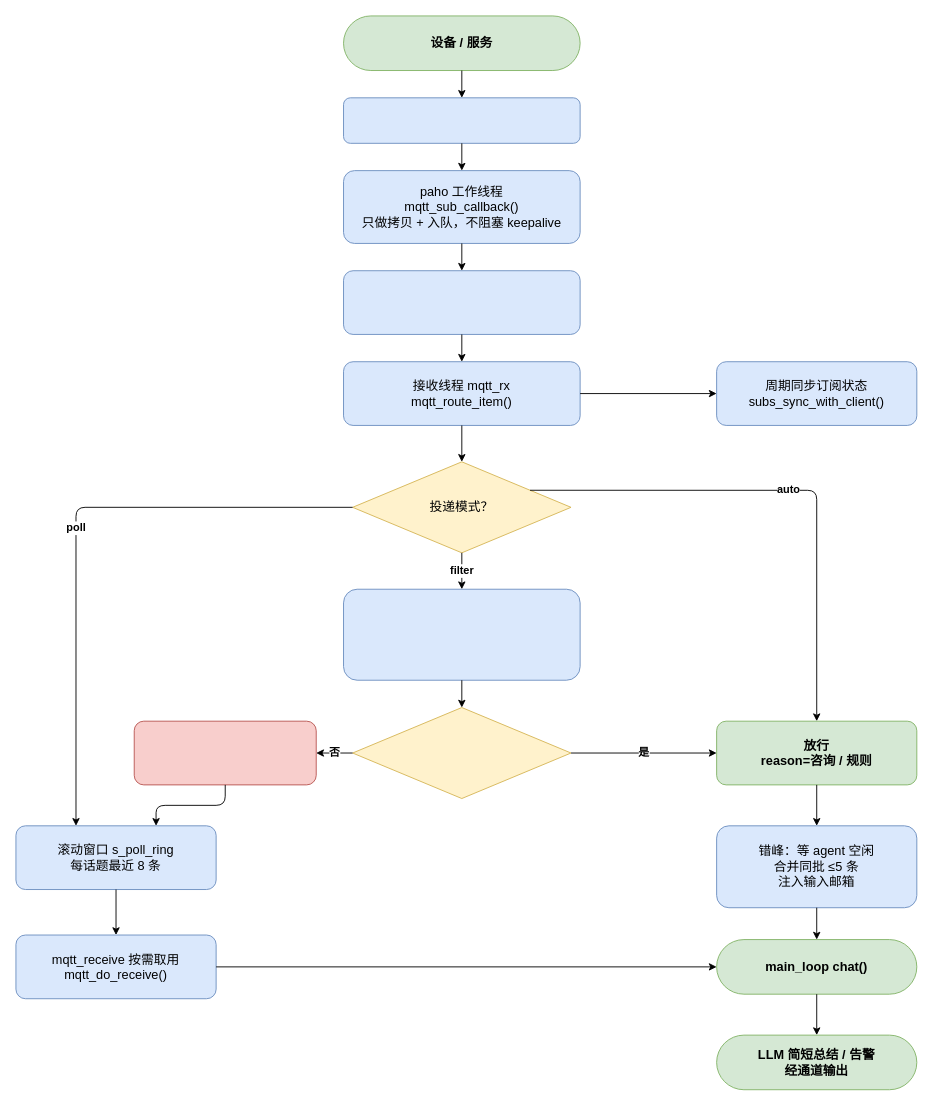
This 933x1106 diagram has some shape labels left out. The shapes that lost their labels are listed below. From the top down, each one's centre as x and y in pixels, then its label:
At point (461, 120): "broker".
At point (461, 302): "接收队列 rt_mq 深度 16，满则丢最旧".
At point (461, 634): "本地门控 payload_looks_like_ask() rule_gate()（边沿 + 冷却）".
At point (224, 752): "本地拦截 suppressed++".
At point (461, 753): "任一命中？".
